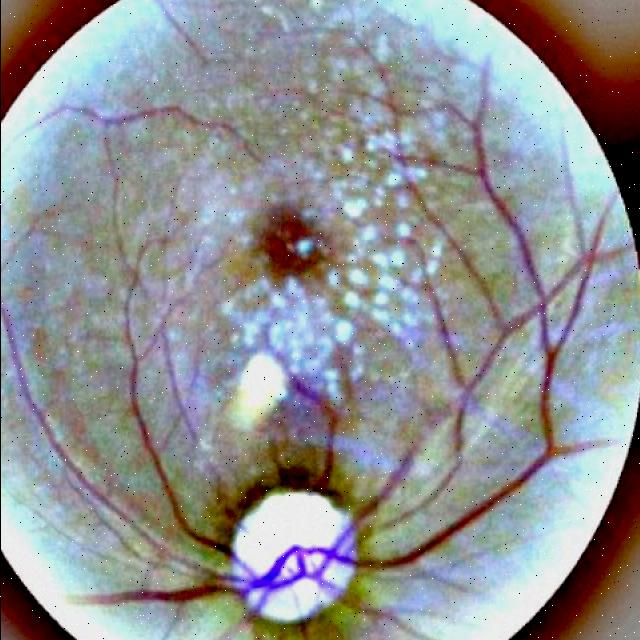Macula: (232, 191, 350, 293)
Nerves: (271, 262, 580, 574), (90, 269, 286, 609), (257, 325, 343, 492)
Optic Disk: (216, 480, 374, 640)
